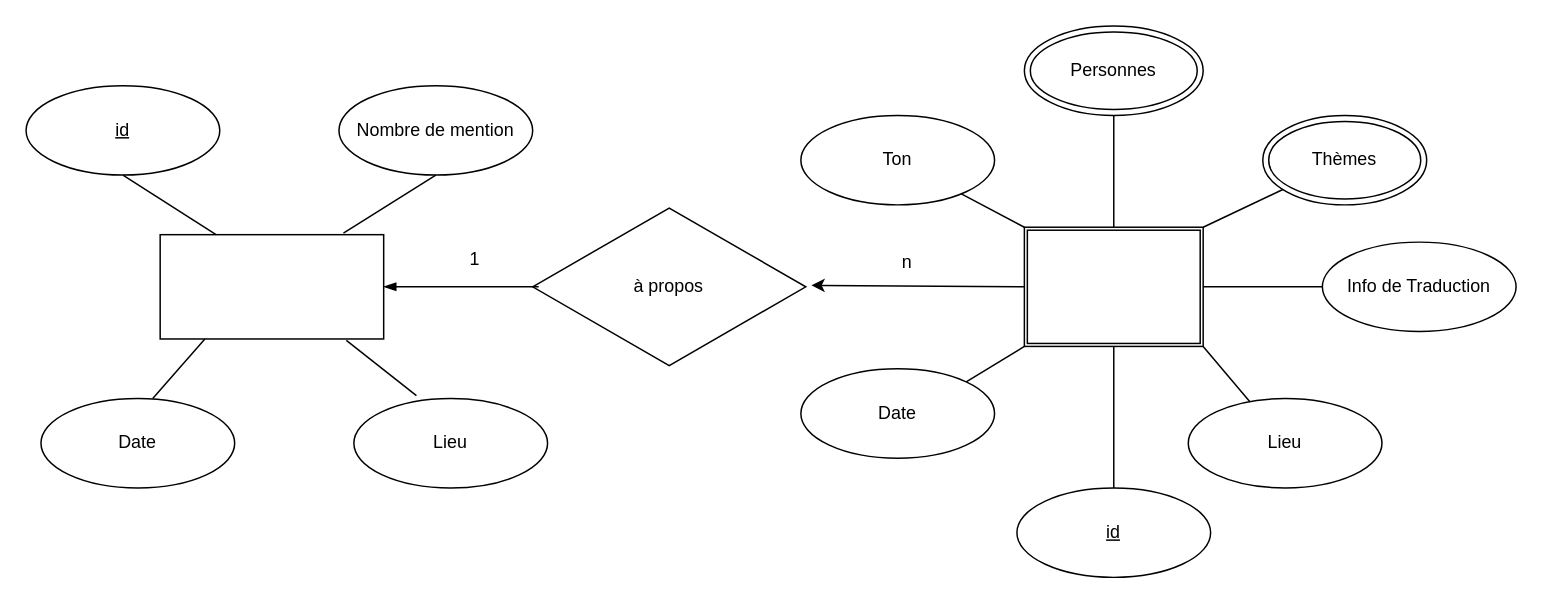
Image size: 1542x603. Some labels were removed from this diagram. Each missing label, with the centre of its shape:
"Article" belongs at pixel 1113 286.
"Évènement" belongs at pixel 271 286.
